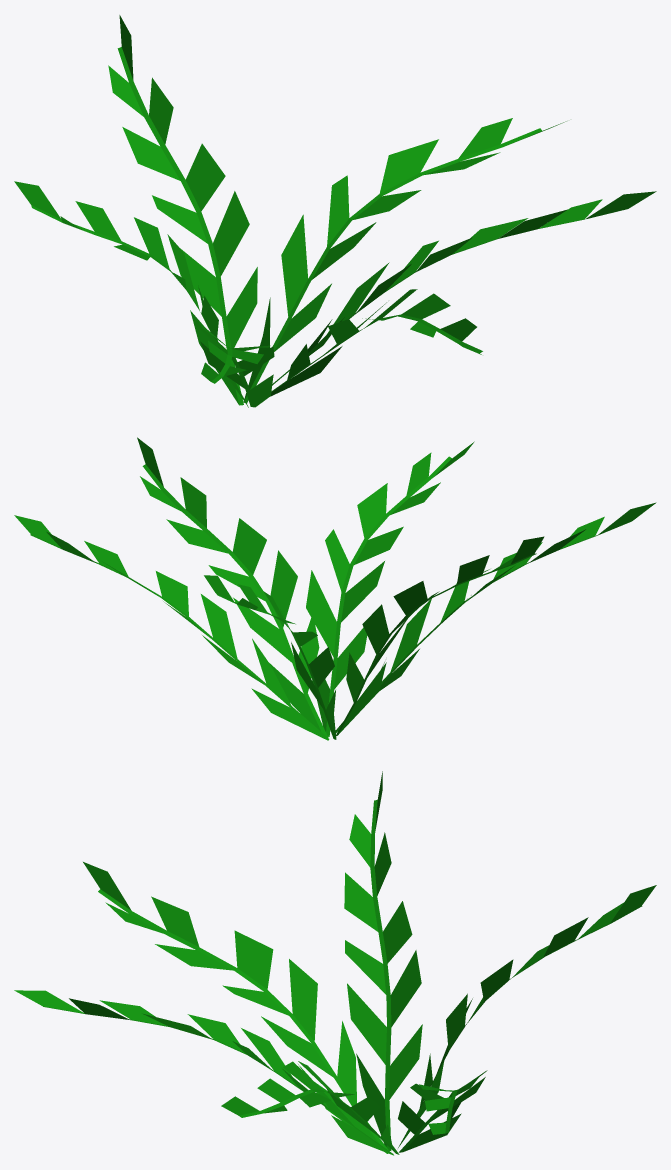
Rendered from grass 2.glb.
The picture shows the model from 3 angles, top to bottom: view 1: azimuth 30°, elevation 25°; view 2: azimuth 150°, elevation 25°; view 3: azimuth 270°, elevation 25°; orthographic projection. The views are drawn at different scales.
Visible parts, largest first — view 1: Plane.045; view 2: Plane.045; view 3: Plane.045.
Part boxes in pixels (x1,y1,x2,y2): Plane.045: (14, 15, 656, 407); Plane.045: (14, 437, 656, 740); Plane.045: (14, 771, 656, 1155).
Size of the model in its own units: 4.54 by 2.12 by 4.54.
